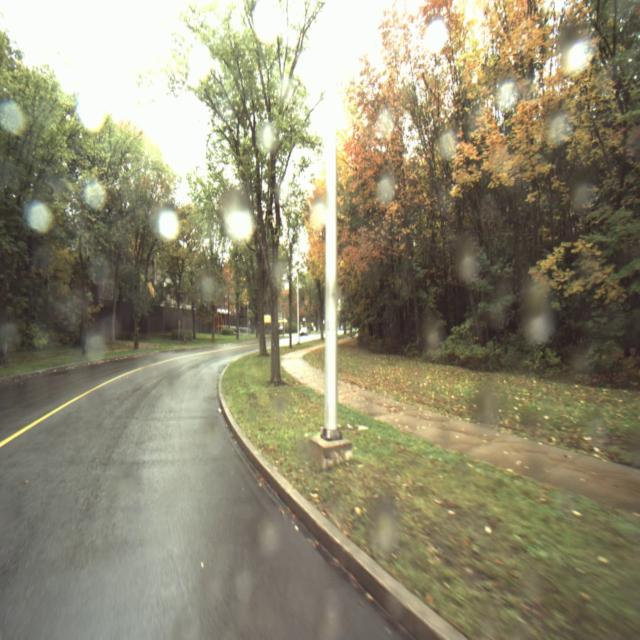car: (299, 327, 308, 336)
